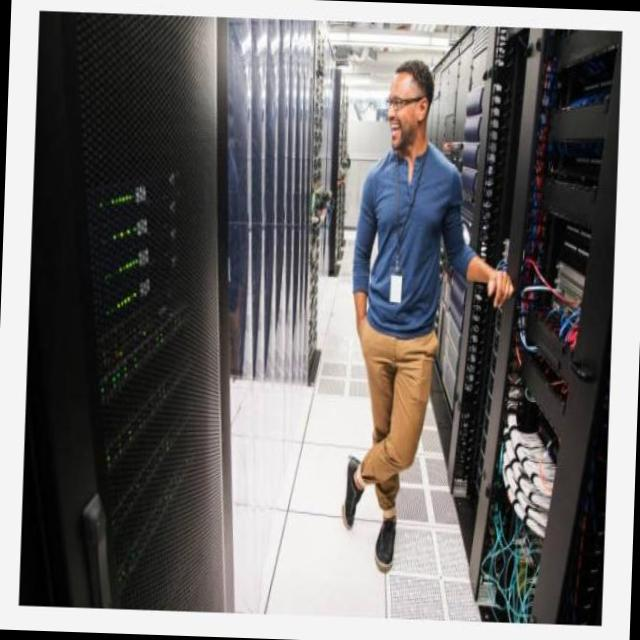id_card: (379, 138, 424, 304)
